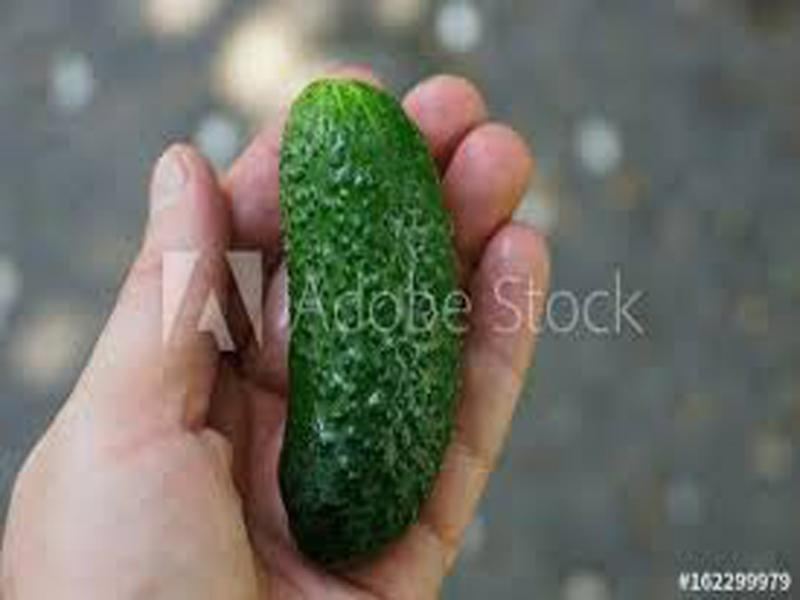Cucumber: (279, 82, 465, 564)
